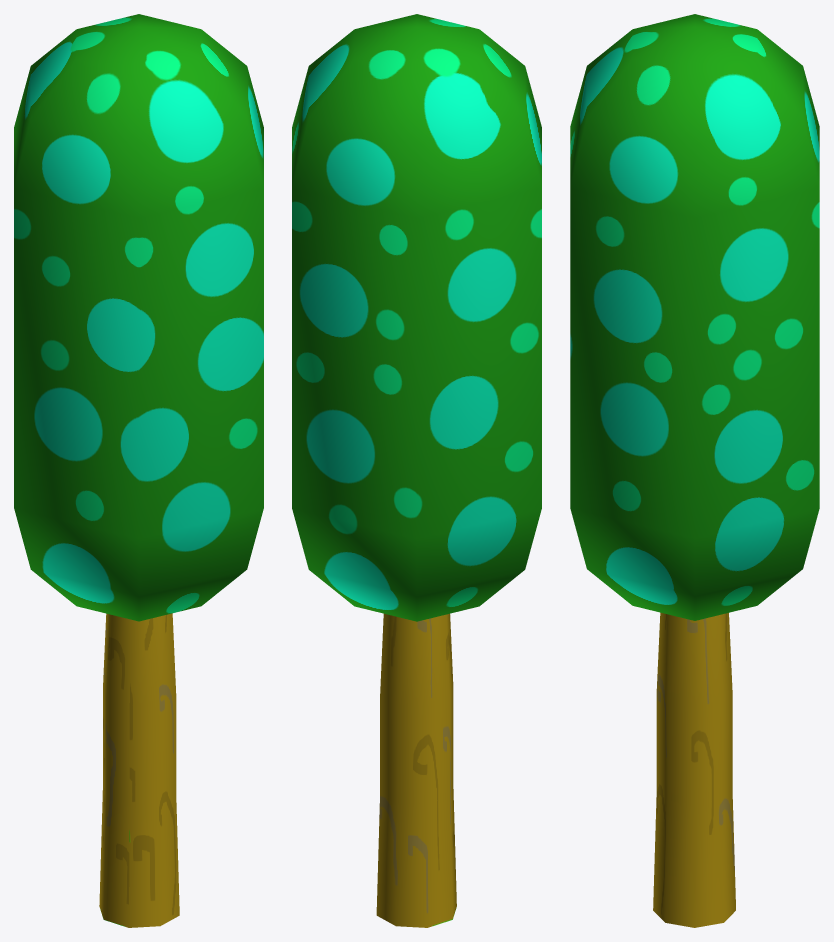
File: Tree3.FBX
3 renders of one model, left to right at view 1: azimuth 30°, elevation 25°; view 2: azimuth 150°, elevation 25°; view 3: azimuth 270°, elevation 25°, orthographic.
Visible parts, largest first — view 1: Capsule001, Tree; view 2: Capsule001, Tree; view 3: Capsule001, Tree.
Boxes of the visible parts, left/top/right/bottom form: Capsule001: left=14, top=14, right=263, bottom=621; Tree: left=99, top=613, right=179, bottom=927; Capsule001: left=292, top=14, right=541, bottom=621; Tree: left=376, top=613, right=456, bottom=927; Capsule001: left=570, top=14, right=819, bottom=620; Tree: left=653, top=612, right=735, bottom=927.
Size of the model in its own units: 2.89 by 9.78 by 2.5.
